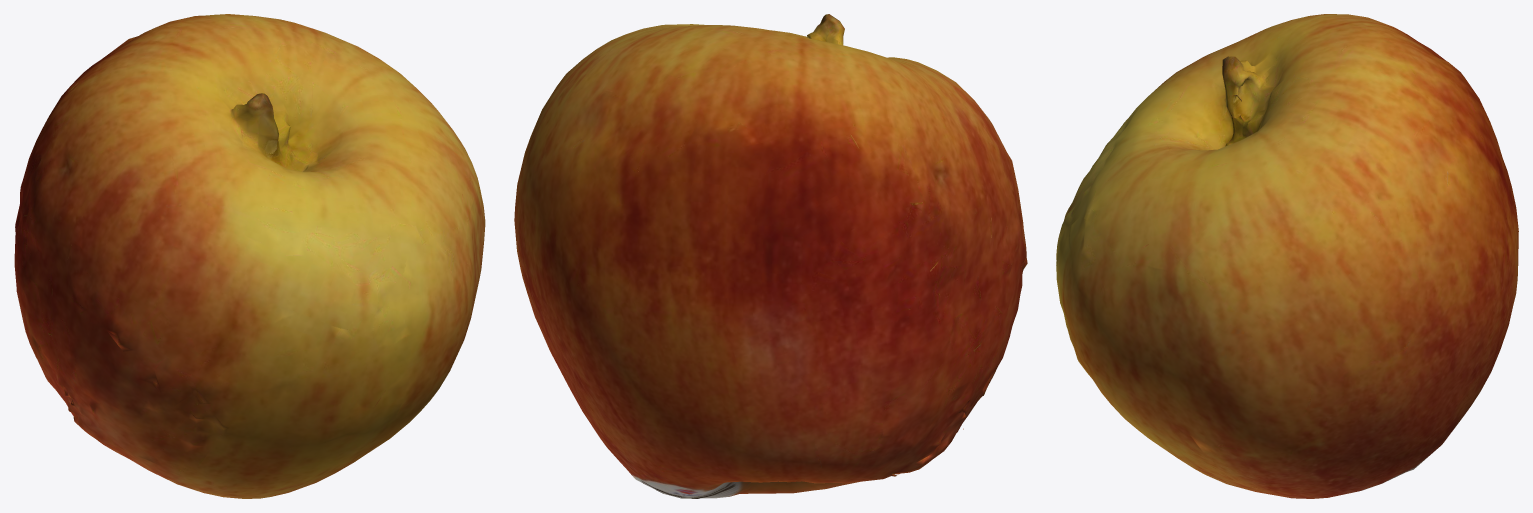
3 views of the same model, side by side, from view 1: azimuth 30°, elevation 25°; view 2: azimuth 150°, elevation 25°; view 3: azimuth 270°, elevation 25° (orthographic). The views are drawn at different scales.
Bounding box in the file's own units: 0.0771 × 0.08 × 0.0771.
1 material, 1 textured.
